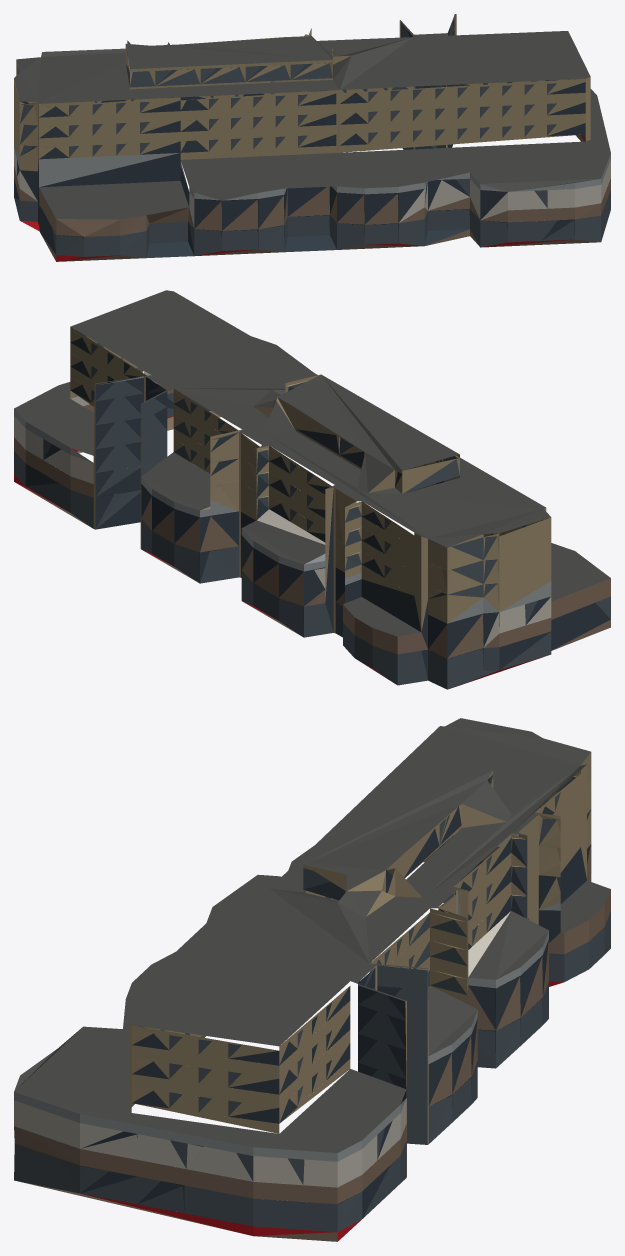
Rendered from tweede-hugo-de-grootstraat-43.lod2.glb.
3 views of the same model, one above another, from view 1: azimuth 30°, elevation 25°; view 2: azimuth 150°, elevation 25°; view 3: azimuth 270°, elevation 25° (orthographic). The views are drawn at different scales.
Parts seen in each view (by area): view 1: lod2; view 2: lod2; view 3: lod2.
Part boxes in pixels (box(x1,y1,x2,y2)): lod2: box(14, 14, 610, 261); lod2: box(14, 290, 610, 689); lod2: box(14, 718, 610, 1241).
Bounding box in the file's own units: 70.41 × 19 × 50.32.
